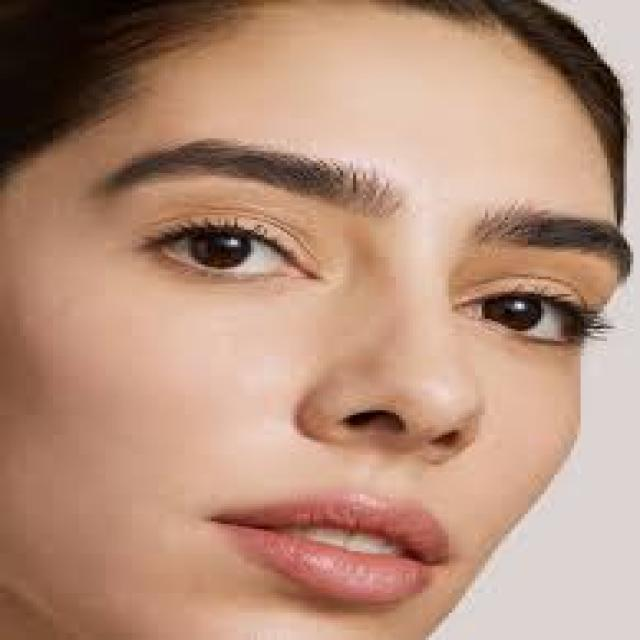no_dark_circle: (155, 266, 289, 323), (458, 330, 569, 368)
